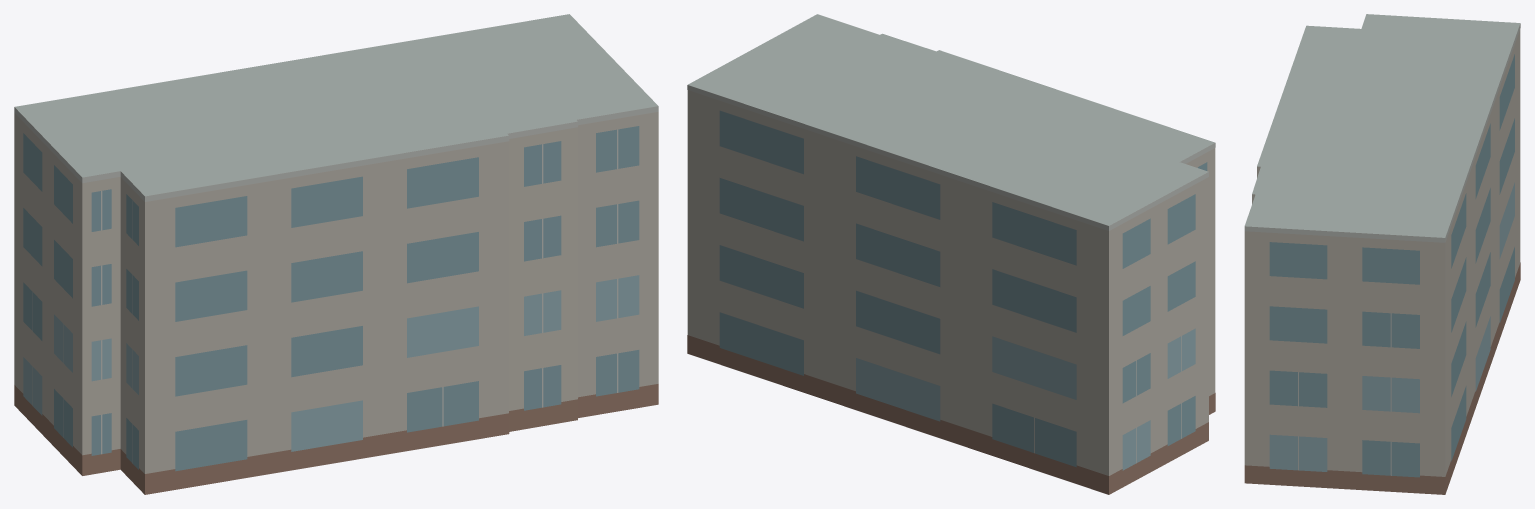
File: survey-upis-32688464.glb
3 renders of one model, left to right at view 1: azimuth 30°, elevation 25°; view 2: azimuth 150°, elevation 25°; view 3: azimuth 270°, elevation 25°, orthographic. The views are drawn at different scales.
Visible parts, largest first — view 1: survey-upis-32688464.tmp; view 2: survey-upis-32688464.tmp; view 3: survey-upis-32688464.tmp.
Boxes of the visible parts, box(x1,y1,x2,y2) form: survey-upis-32688464.tmp: box(14, 14, 658, 494); survey-upis-32688464.tmp: box(687, 14, 1215, 494); survey-upis-32688464.tmp: box(1244, 14, 1520, 494).
Size of the model in its own units: 24.12 by 12.9 by 12.57.
